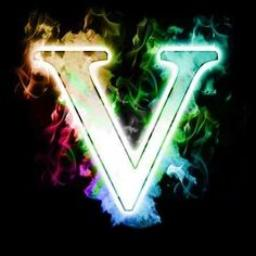v: (28, 37, 232, 221)
